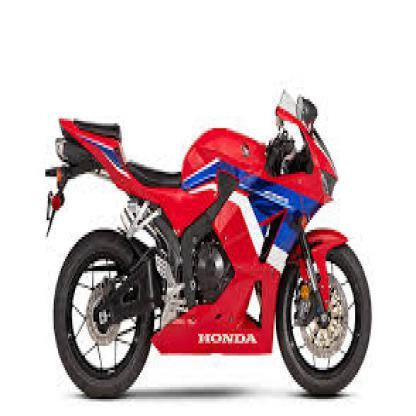Motorcycle: (38, 80, 372, 398)
